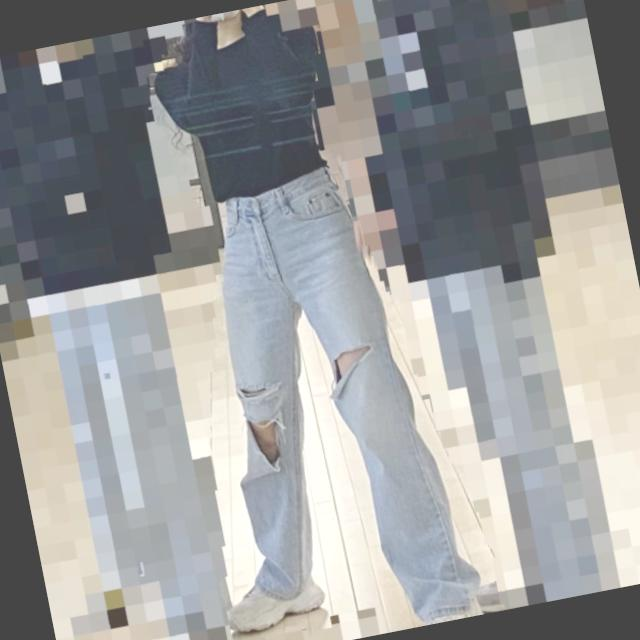denimpants: (184, 154, 491, 640)
longsleeve: (148, 3, 344, 215)
